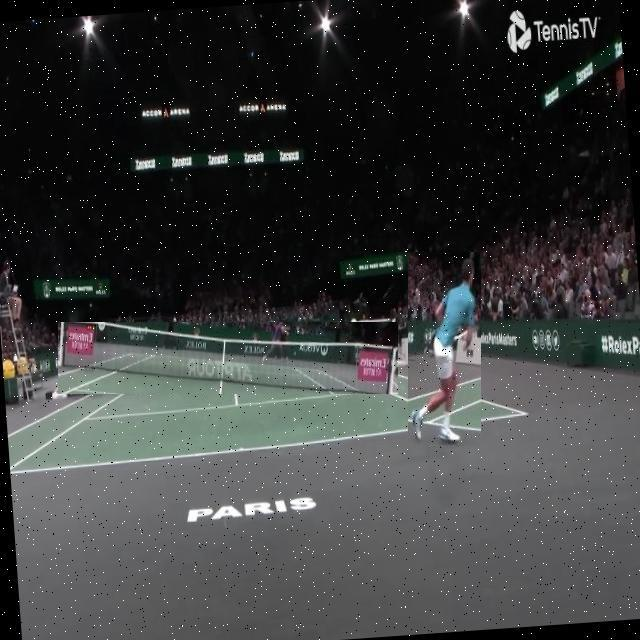court: (3, 336, 532, 474)
net: (58, 322, 398, 394)
player: (408, 252, 481, 446)
